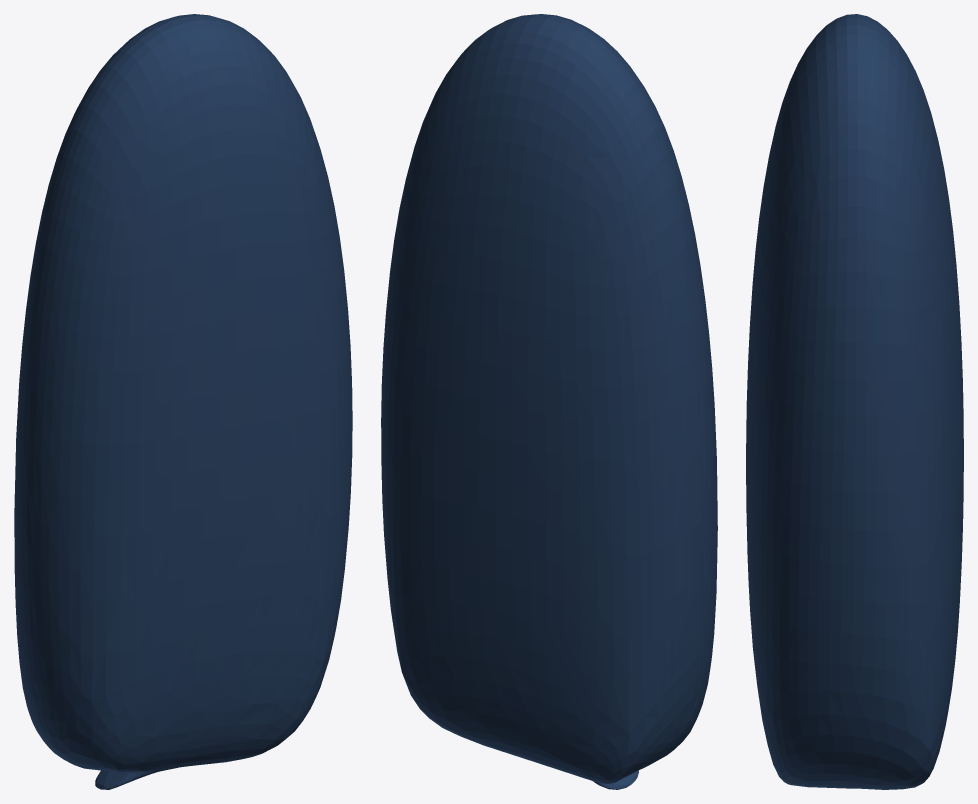
3 views of the same model, side by side, from view 1: azimuth 30°, elevation 25°; view 2: azimuth 150°, elevation 25°; view 3: azimuth 270°, elevation 25° (orthographic). The views are drawn at different scales.
Parts seen in each view (by area): view 1: 026_Cube.114; view 2: 026_Cube.114; view 3: 026_Cube.114.
Part boxes in pixels (x1,y1,x2,y2): 026_Cube.114: (14,14,352,789); 026_Cube.114: (381,14,717,789); 026_Cube.114: (746,14,963,789).
Bounding box in the file's own units: 4.97 × 11.36 × 2.93.
